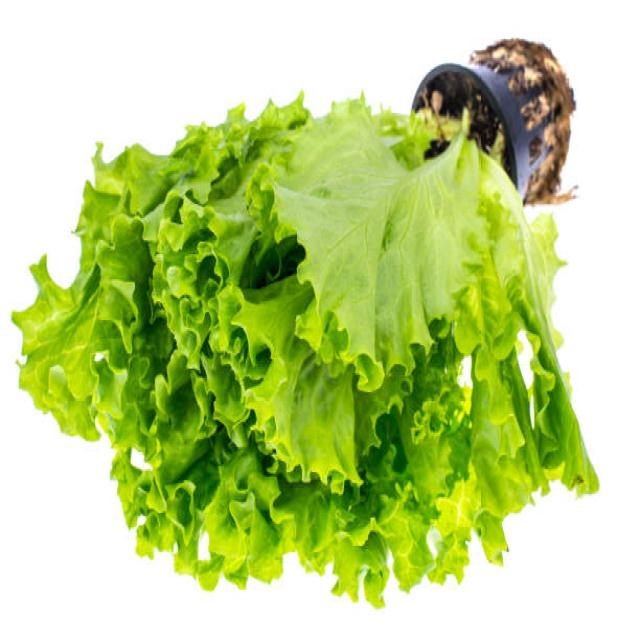Wet Waste: (19, 92, 600, 589)
